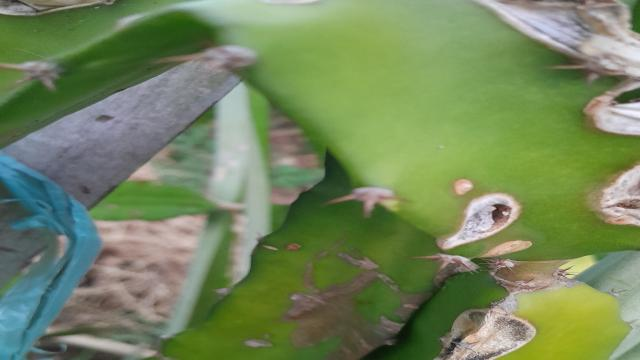stemcanker: (480, 236, 536, 259), (449, 173, 484, 200), (281, 239, 305, 255), (250, 241, 275, 256)
